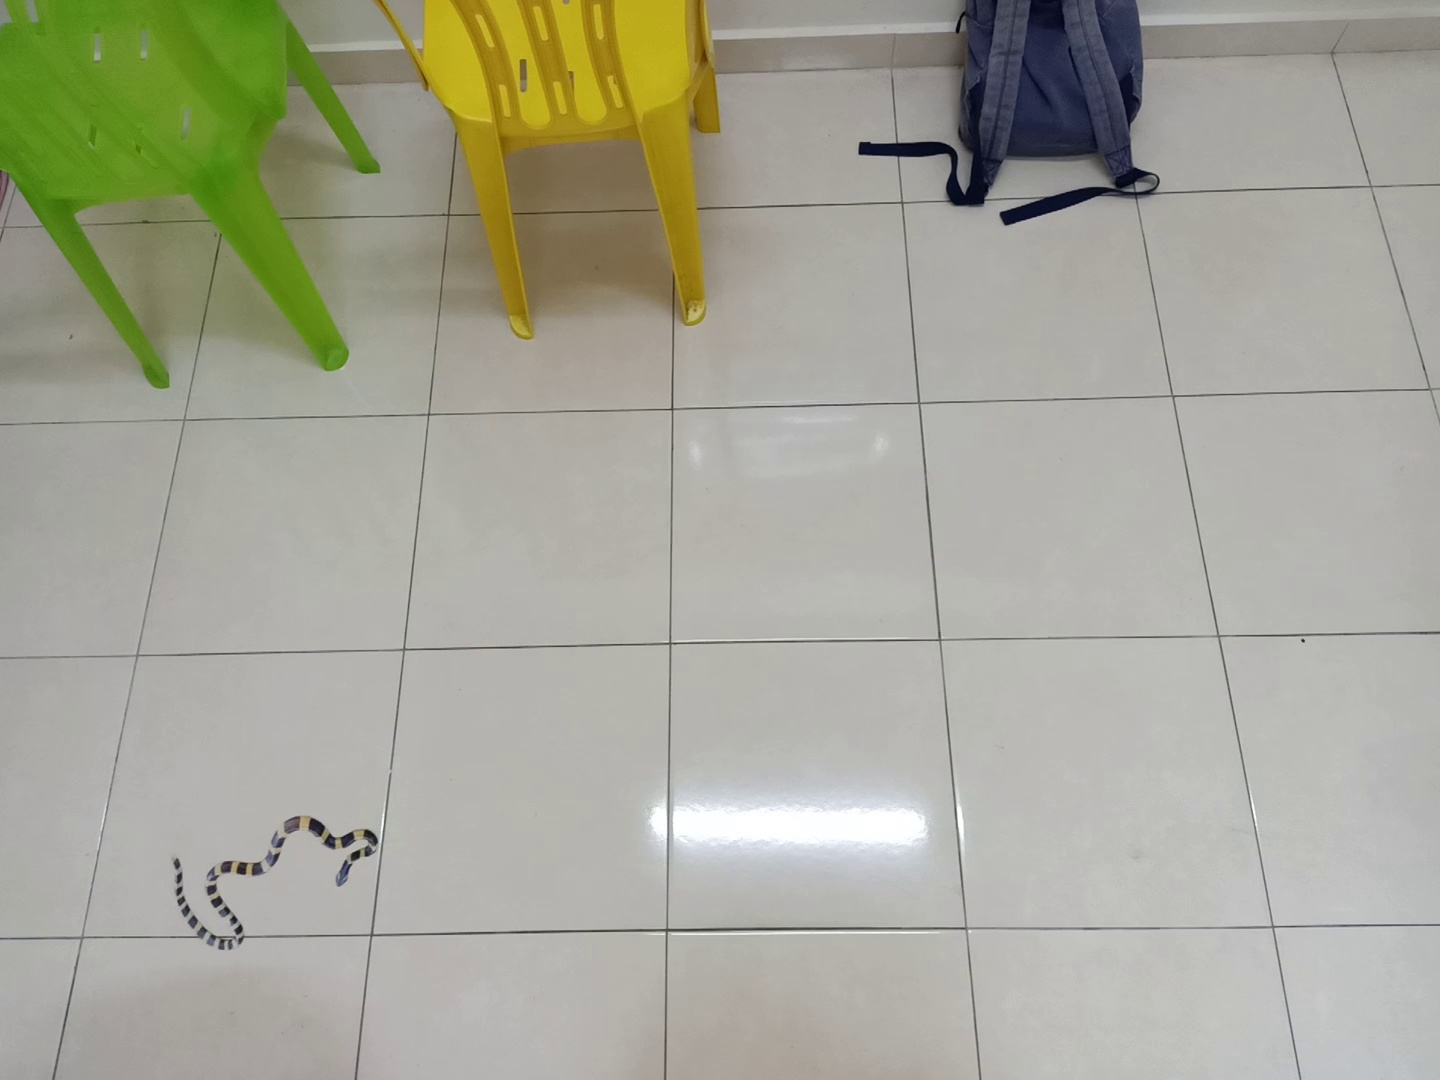snake: (167, 803, 388, 956)
